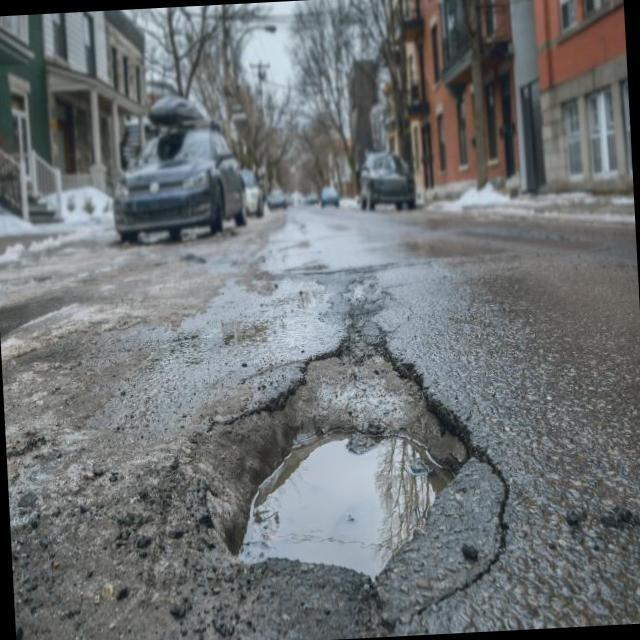Pothole: (239, 432, 453, 579)
